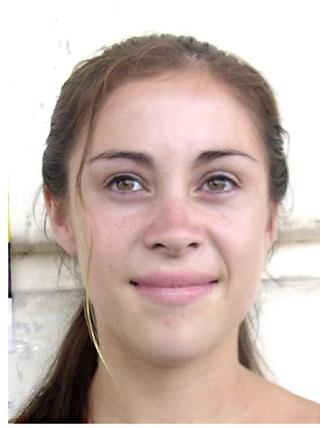No Mask: (29, 27, 318, 417)
